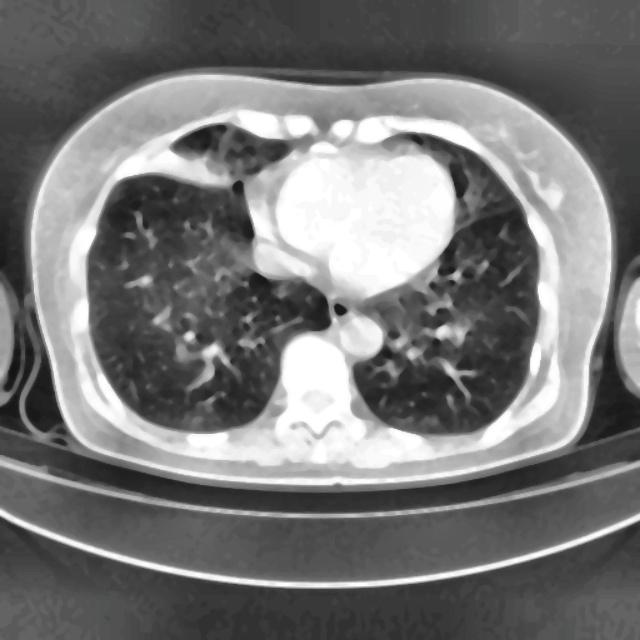covid: (27, 69, 615, 489)
